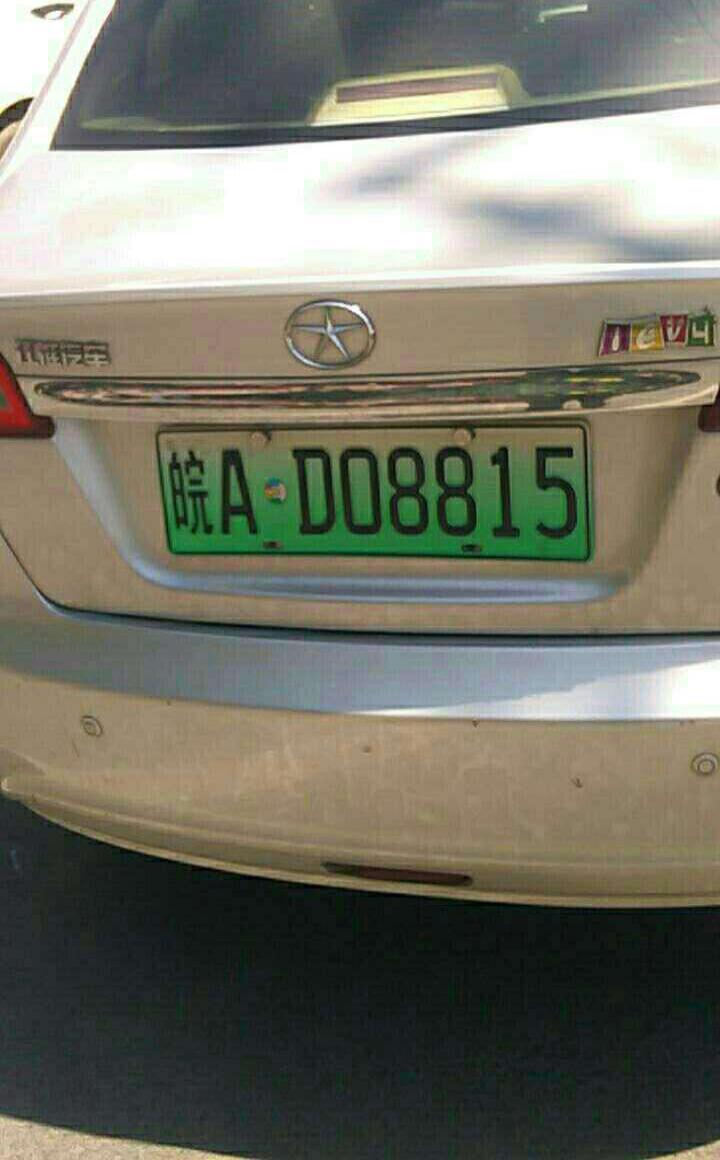car: (152, 427, 596, 568)
